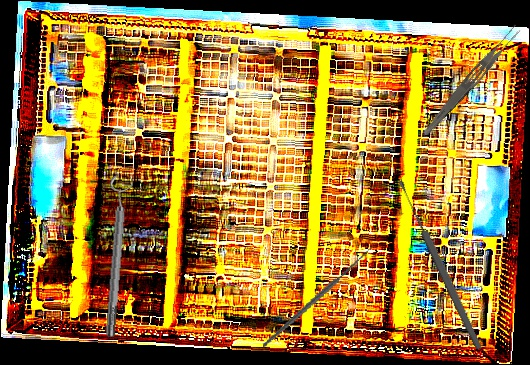Dressing Forceps: (419, 21, 525, 142)
Fixation Ring: (96, 174, 136, 339)
Hook Surgical: (245, 236, 389, 350)
Surgical Spoon: (396, 178, 484, 352)
